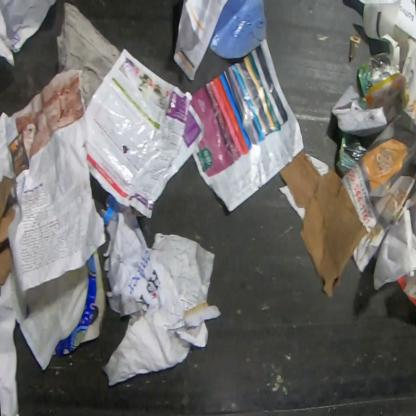cardboard: (278, 148, 368, 299), (341, 98, 416, 275), (56, 1, 122, 111), (52, 248, 108, 357), (208, 0, 268, 60), (0, 174, 18, 287), (397, 269, 415, 308), (349, 34, 362, 59)
soft_plastic: (357, 51, 405, 99), (338, 129, 368, 171)
